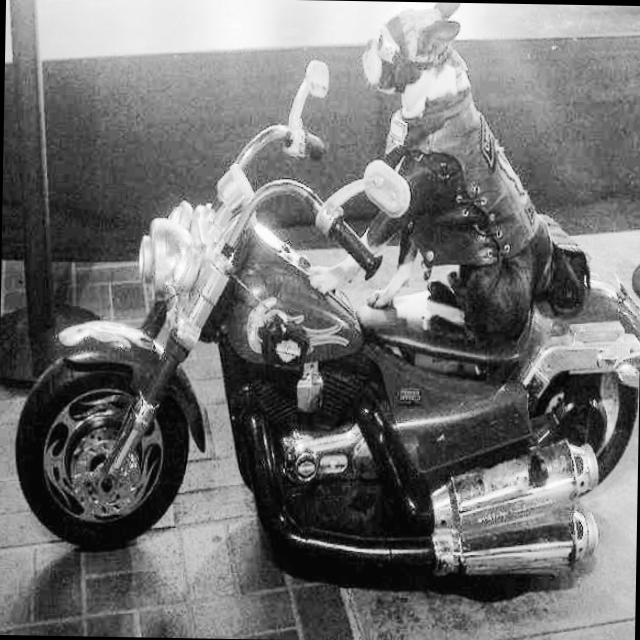Dog: (330, 1, 588, 344)
Motorcycle: (33, 48, 640, 625)
